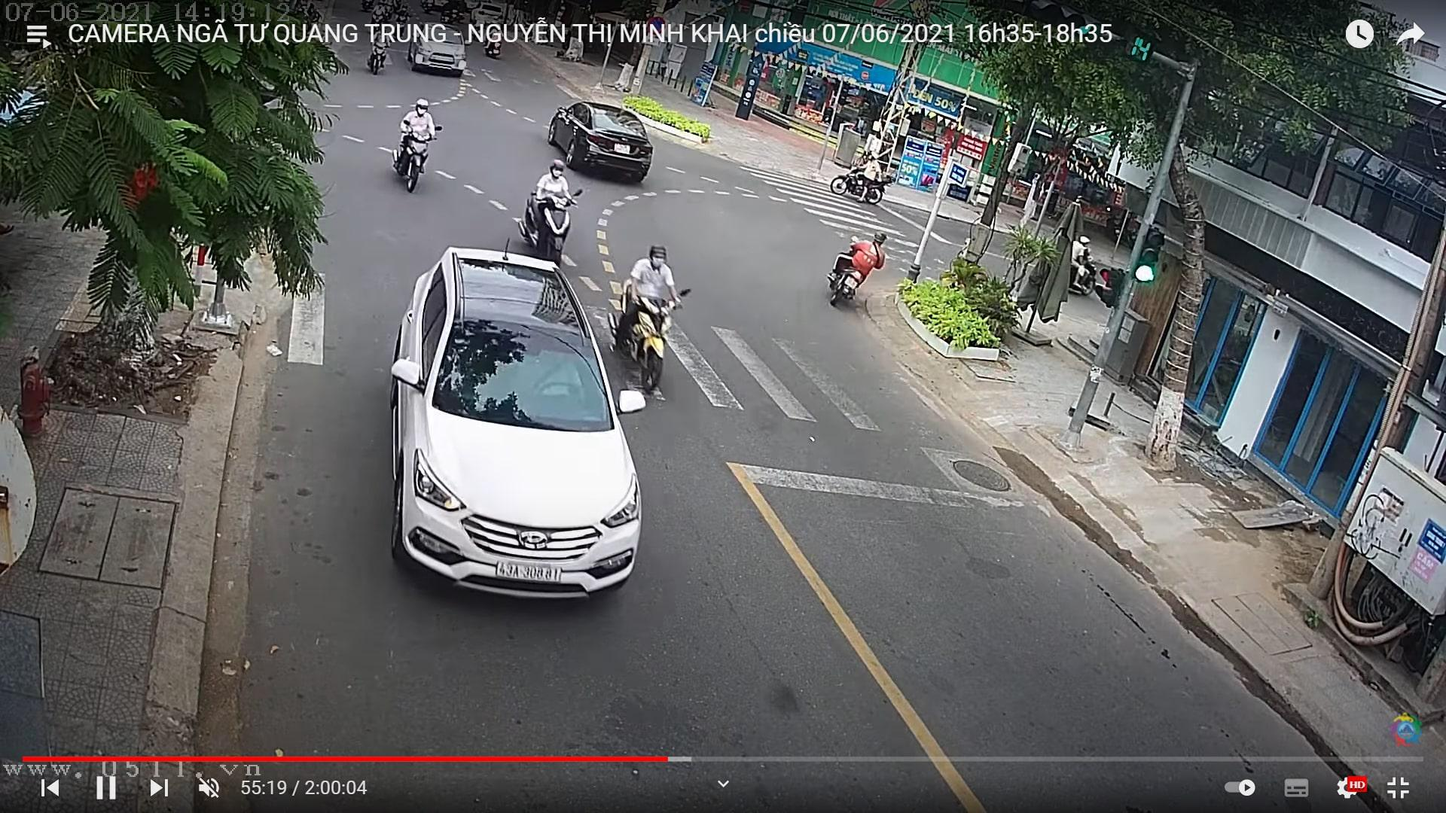car: (381, 242, 647, 611), (408, 26, 465, 77)
motorbike: (615, 277, 674, 399), (522, 175, 582, 271), (392, 138, 432, 193), (366, 50, 388, 75)
